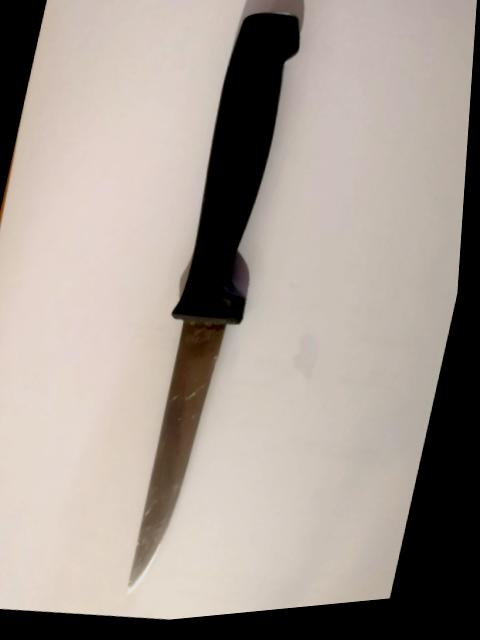Knife: (127, 13, 298, 592)
